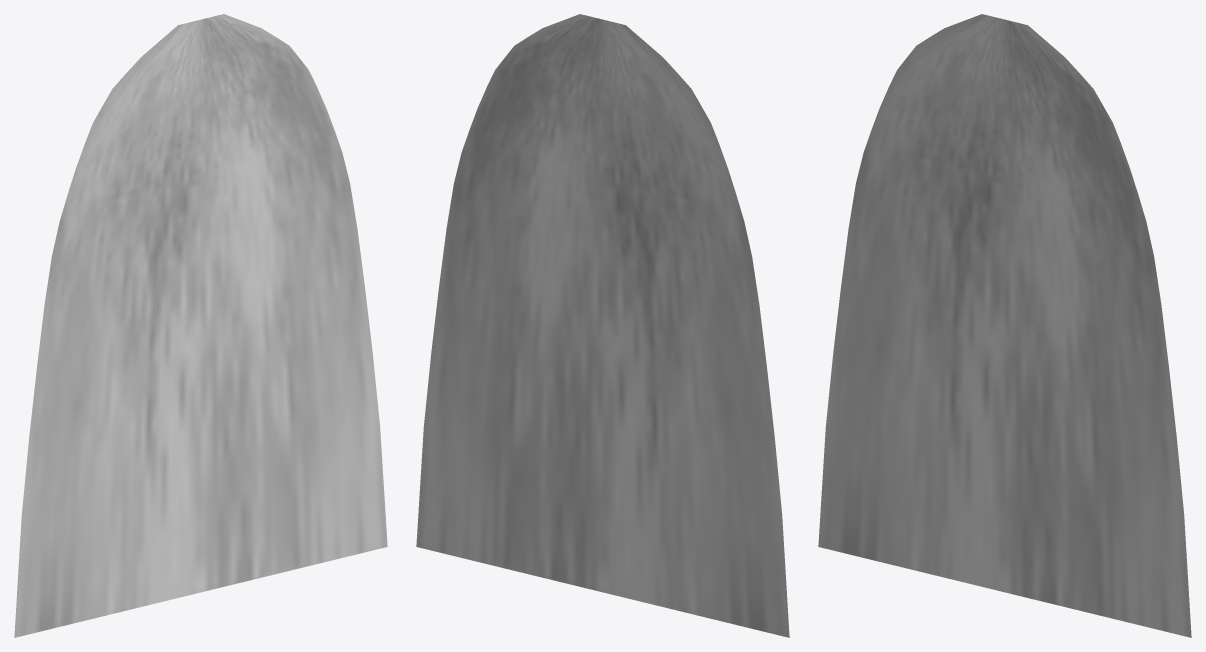
The model's file is pir_m_gam_srp_water.fbx.
3 views of the same model, side by side, from view 1: azimuth 30°, elevation 25°; view 2: azimuth 150°, elevation 25°; view 3: azimuth 330°, elevation 25° (orthographic).
Visible parts, largest first — view 1: waterPlane; view 2: waterPlane; view 3: waterPlane.
Boxes of the visible parts, x1,y1,x2,y2 form: waterPlane: (14, 14, 387, 637); waterPlane: (416, 14, 789, 637); waterPlane: (818, 14, 1191, 637).
Size of the model in its own units: 125 by 183 by 2.99e-05.
Materials: 1 (1 with a texture image).
